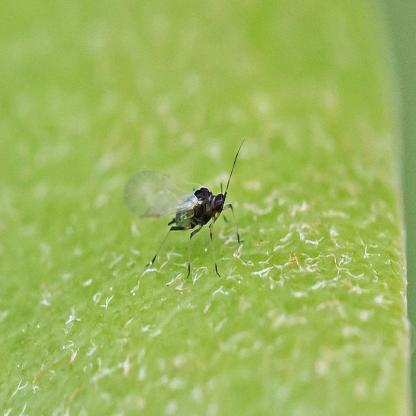aphid: (114, 143, 248, 275)
